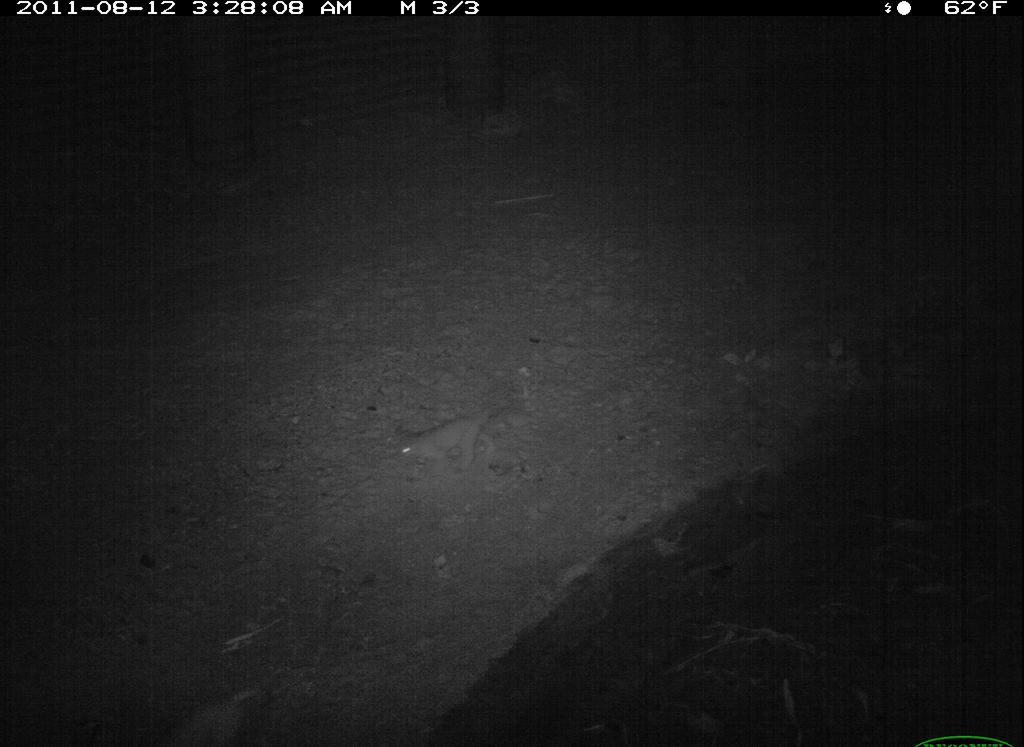bobcat: (383, 397, 510, 475)
